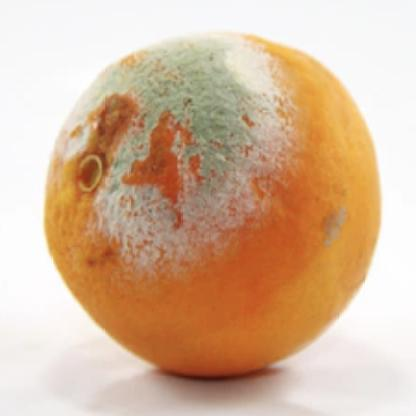rotten: (48, 32, 380, 378)
